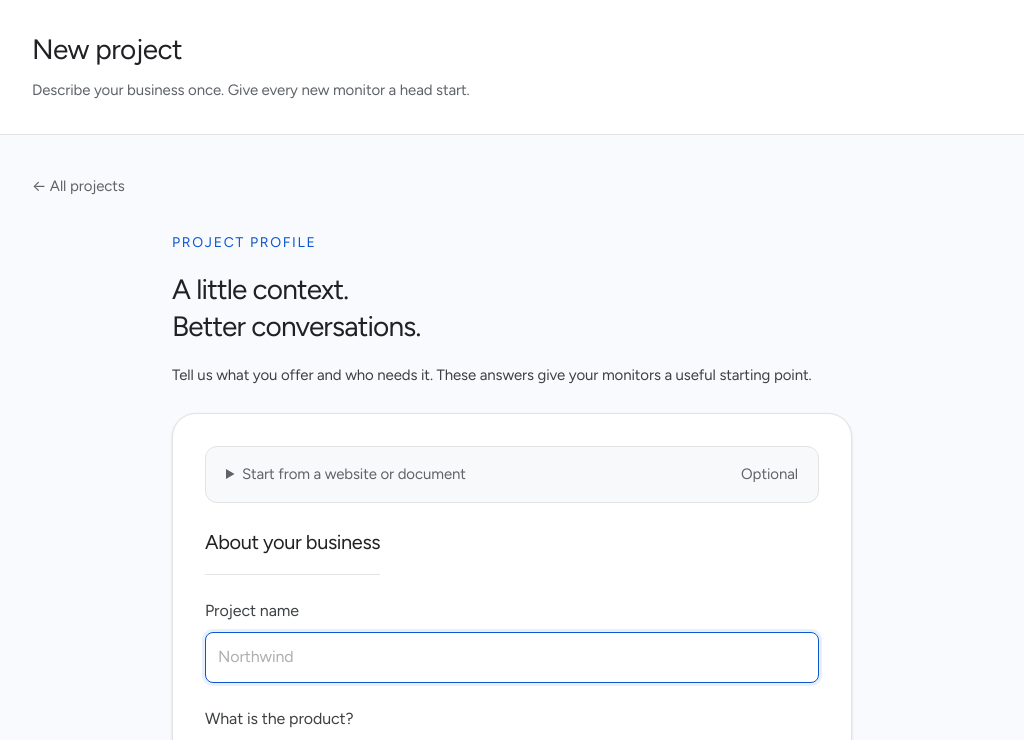
Test: the project editor › shows the server's own sentence when a page cannot be read
The image size is (1024, 740).
Step 1. Click the heading "Start from a website or document Optional" → (354, 474), box [242, 465, 798, 483]
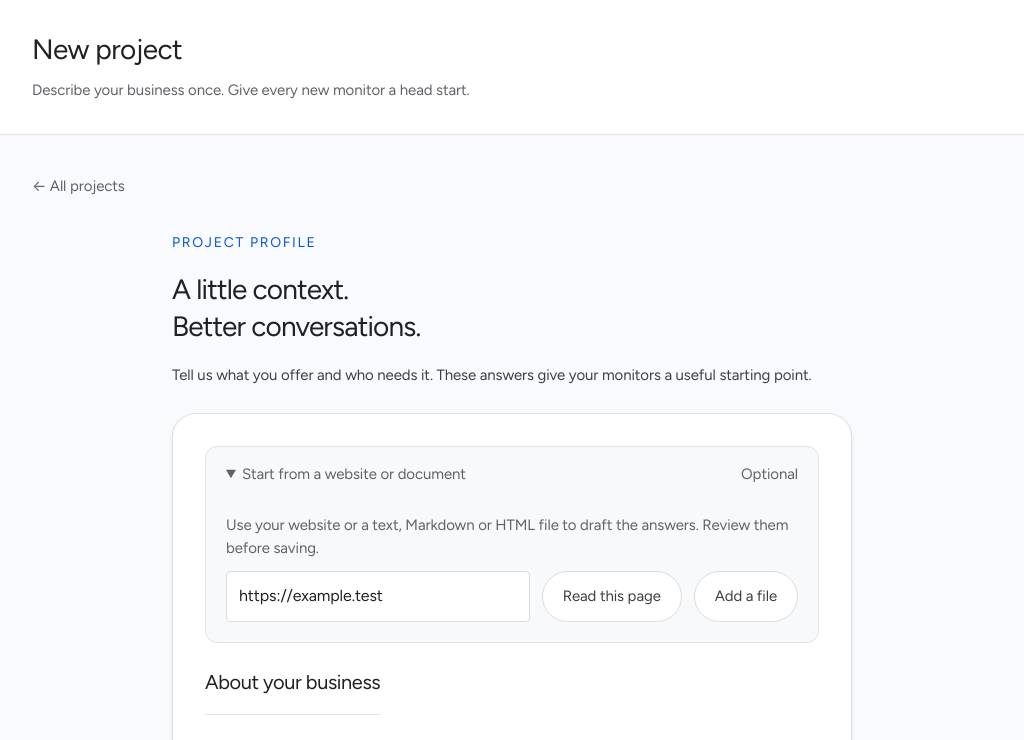
Step 2. Click the button "Read this page" → (612, 597), box [542, 571, 682, 622]
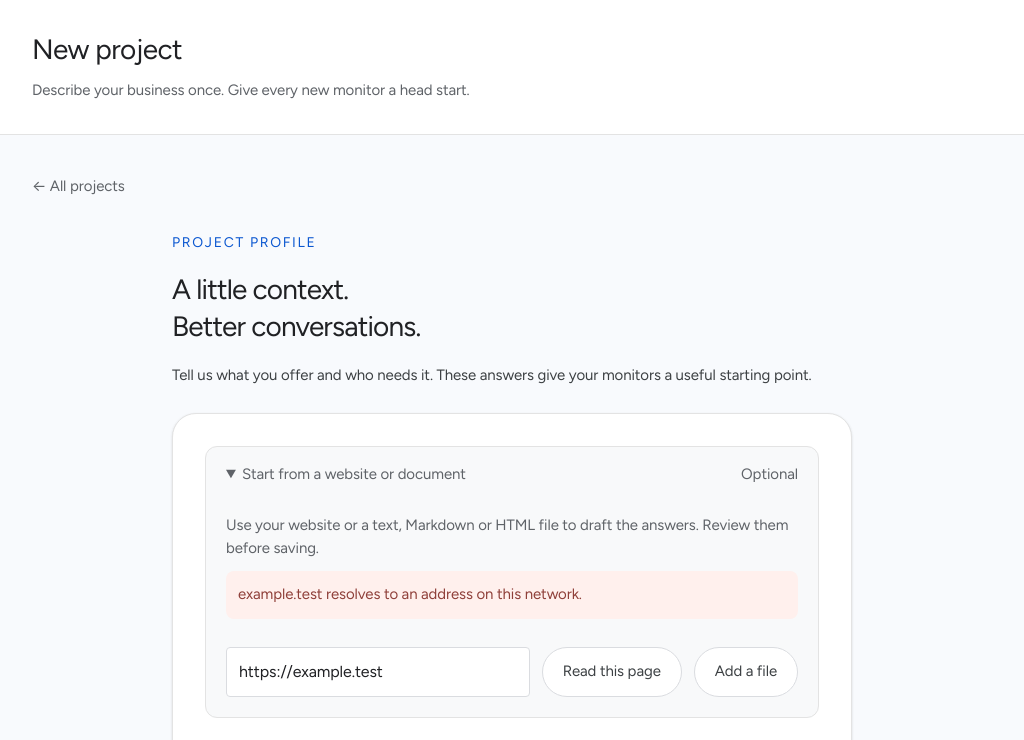
Expected: the text "resolves to an address on this network" is shown, [238, 585, 582, 603]
